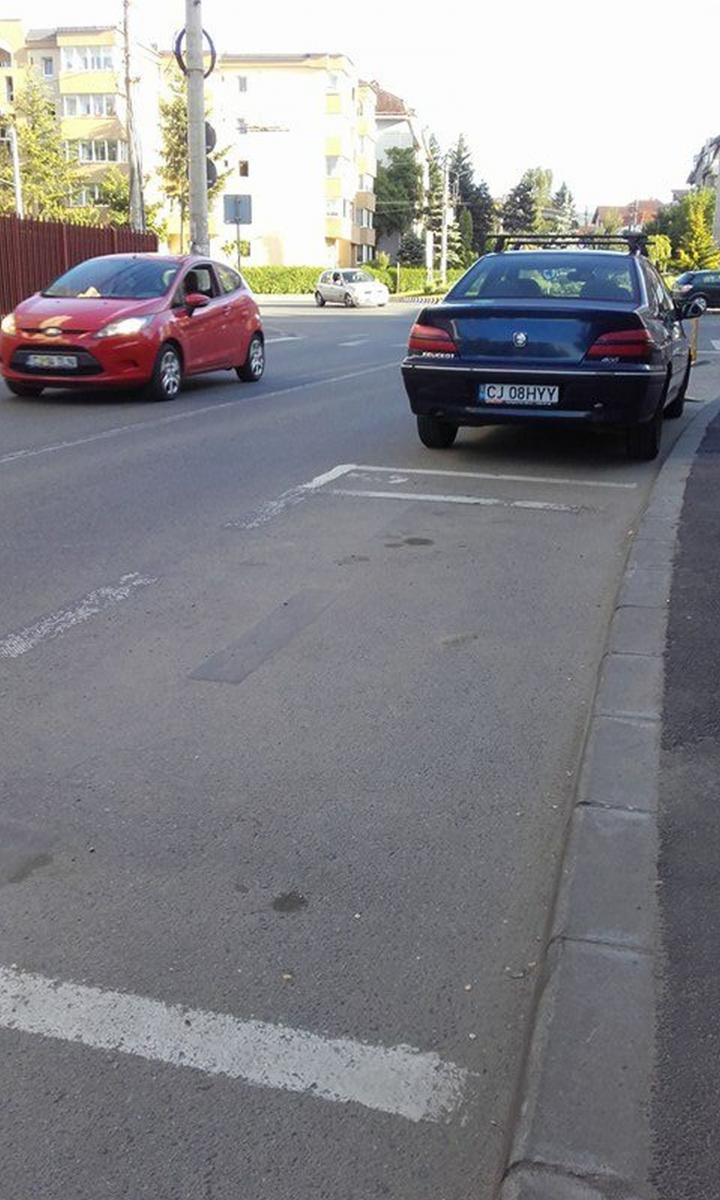faded_road_lines: (0, 456, 646, 1124), (231, 312, 450, 366)
